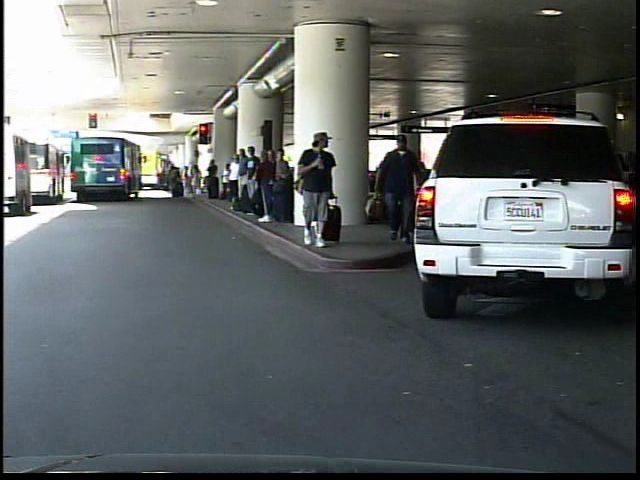person: (299, 127, 343, 248), (379, 130, 420, 248)
